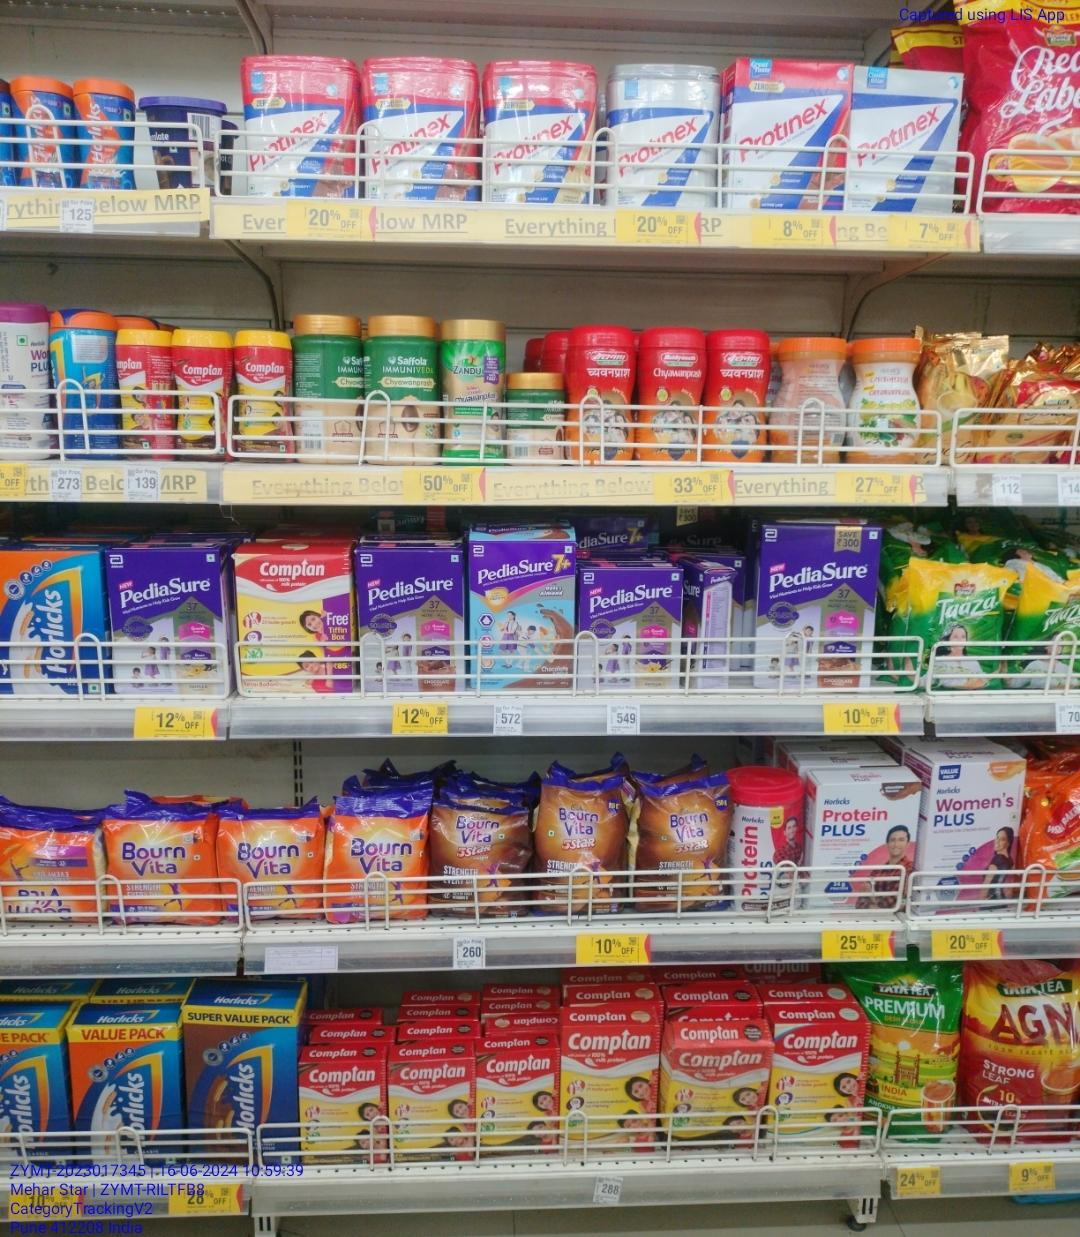COMPLAN_CHOCOLATE_200_GMS_JAR: (117, 325, 175, 457), (235, 328, 291, 459), (179, 329, 229, 459)
